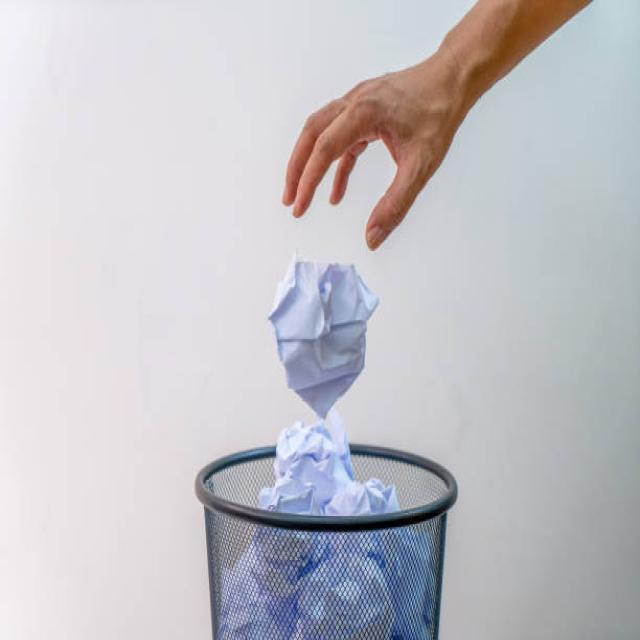paper: (270, 252, 391, 514), (221, 532, 439, 640)
